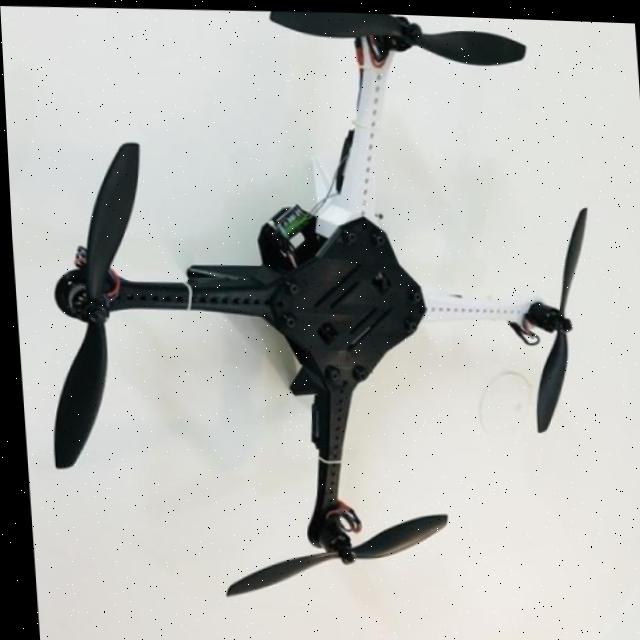drones: (2, 0, 619, 625)
